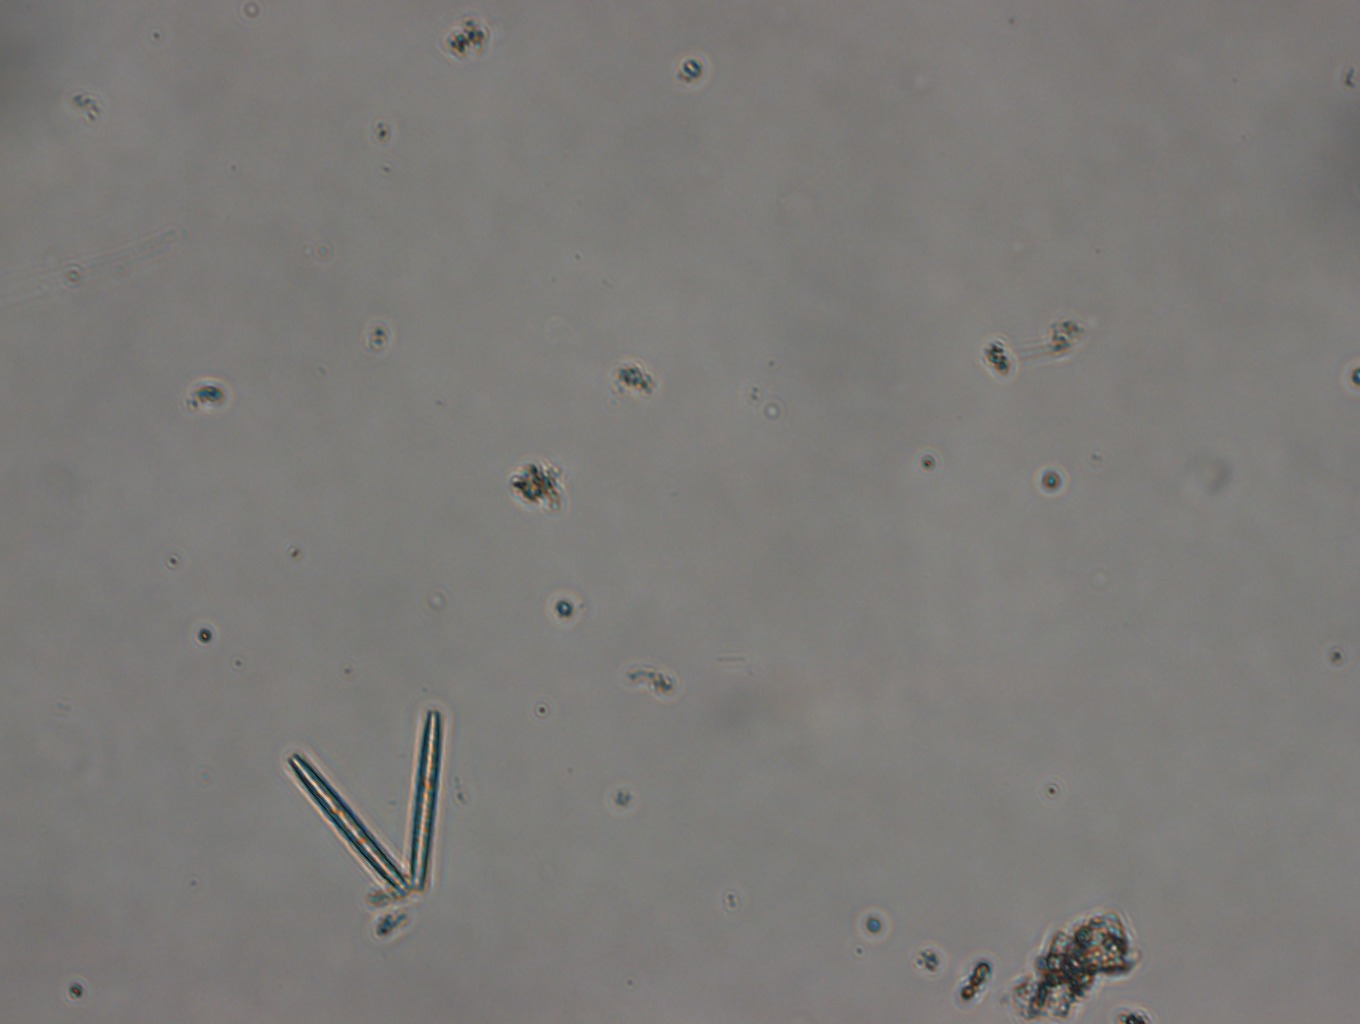thalassionema frauenfeldii: (274, 710, 460, 906)
